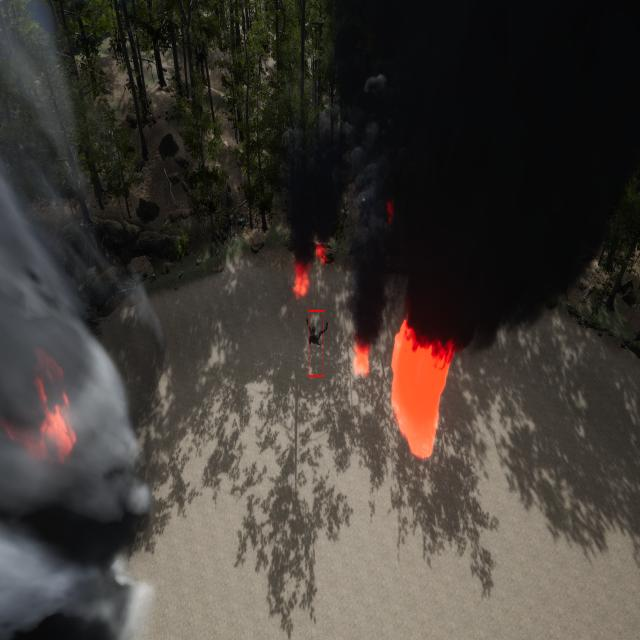Human: (299, 311, 334, 361)
